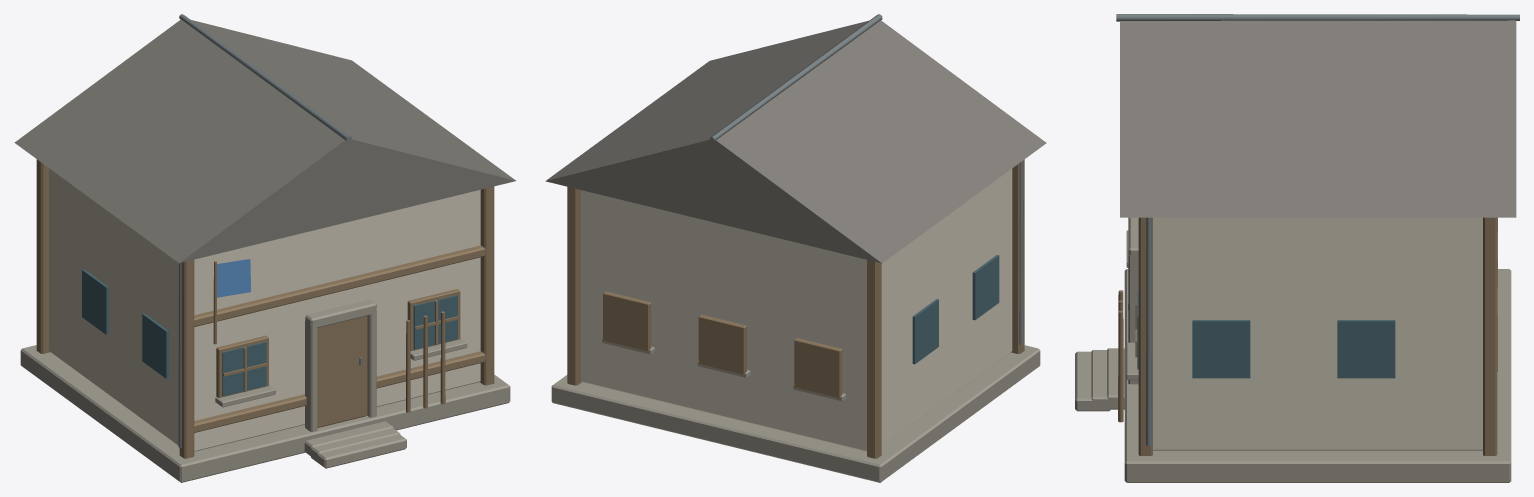
The model's file is bld_caserne_a01.glb.
The picture shows the model from 3 angles, left to right: view 1: azimuth 30°, elevation 25°; view 2: azimuth 150°, elevation 25°; view 3: azimuth 270°, elevation 25°; orthographic projection. The views are drawn at different scales.
Visible parts, largest first — view 1: bld_caserne_a01; view 2: bld_caserne_a01; view 3: bld_caserne_a01.
Part boxes in pixels (x1,y1,x2,y2): bld_caserne_a01: (14,14,515,482); bld_caserne_a01: (545,14,1046,482); bld_caserne_a01: (1075,14,1519,482).
Bounding box in the file's own units: 3.88 × 3.41 × 3.68.
